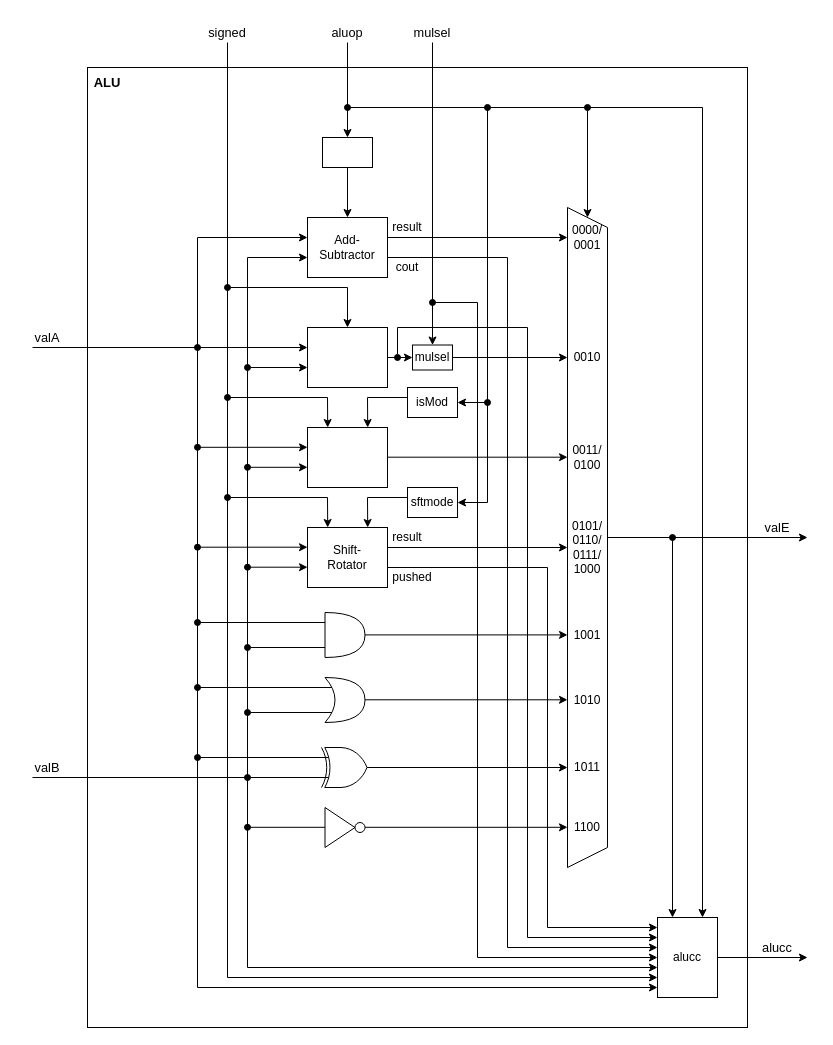
The diagram is 833 pixels wide and 1045 high, and some of its shapes have lost their labels. Each missing label, with the box of its shape:
Divider: (306, 426, 388, 488)
isSub: (322, 136, 372, 168)
Multiplier: (306, 326, 388, 388)
